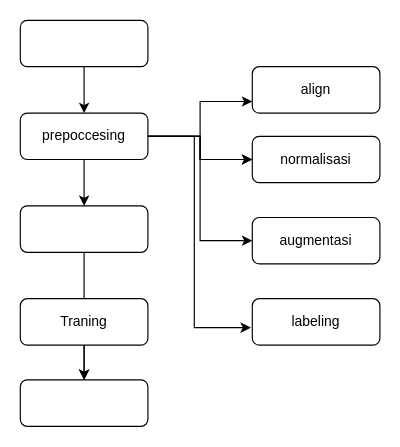
The diagram is 400 pixels wide and 447 high, and some of its shapes have lost their labels. Here are the shapes that lost their labels. From the top down, the centre of each, then its label:
At (83,43): "Memuat Dataset".
At (83,228): "Model CNN".
At (83,402): "Evaluasi".
